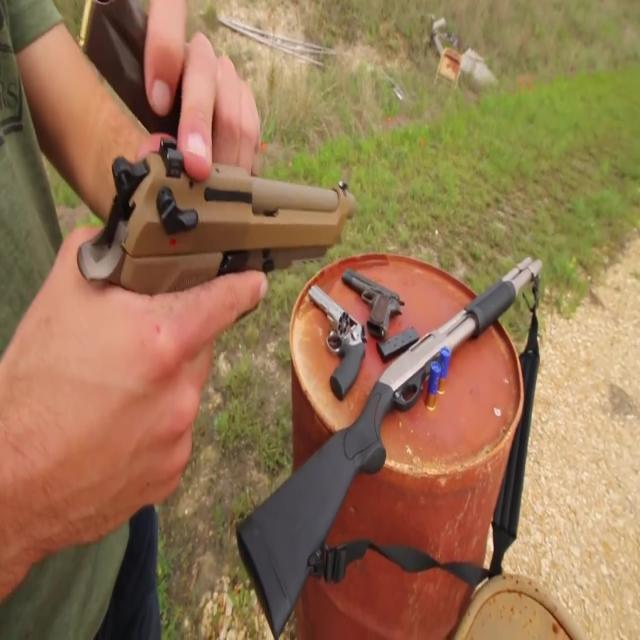Weapon: (45, 0, 596, 635)
